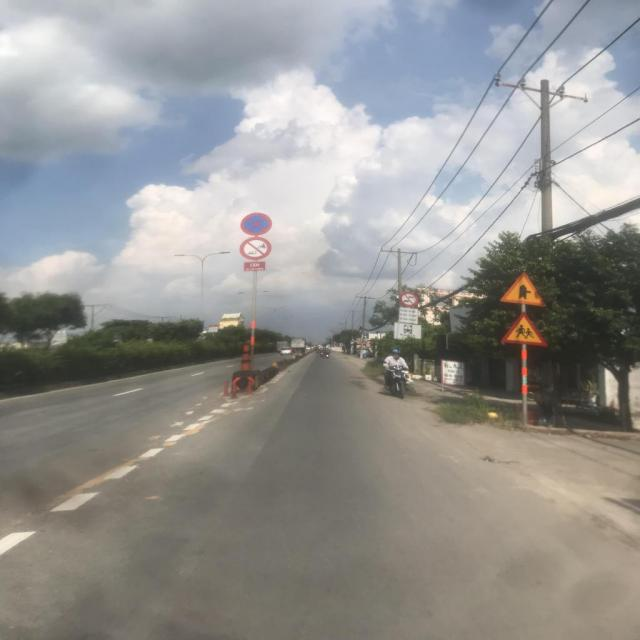cam_dung_xe_va_do_xe: (241, 212, 272, 235)
cam_o_to_tai_va_xe_khach: (400, 291, 420, 307)
cam_xe_2_banh_va_xe_3_banh_co_dong_co: (240, 237, 272, 260)
chu_y_tre_em: (500, 310, 550, 347)
giao_nhau_voi_duong_khong_uu_tien: (500, 271, 548, 307)
khac: (392, 322, 422, 340), (398, 308, 418, 324)
